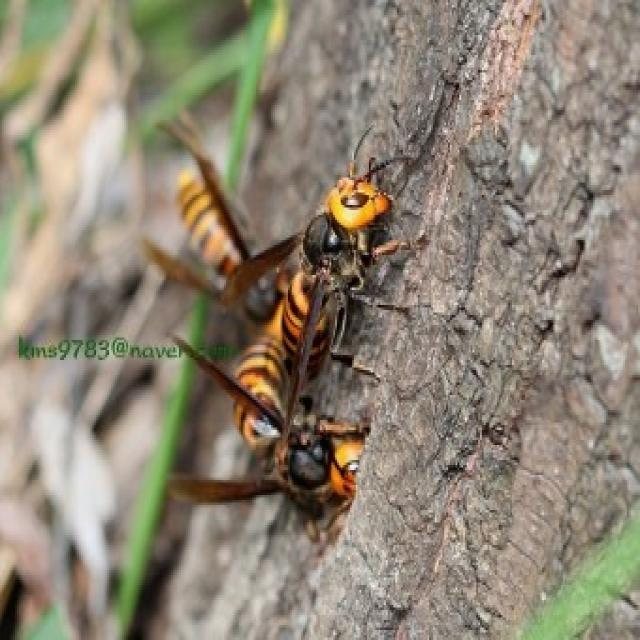Wasp: (169, 329, 370, 520), (289, 142, 427, 370)
